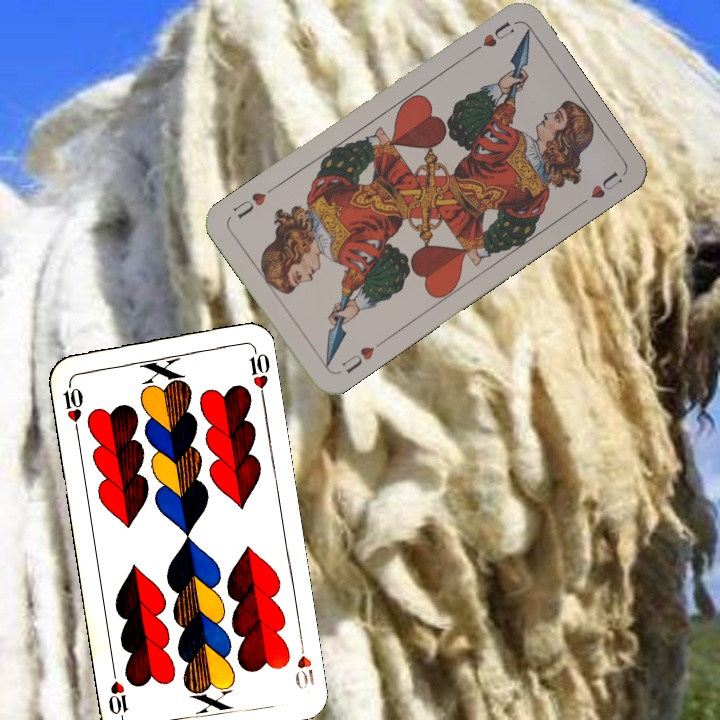H10: (59, 375, 86, 434), (291, 633, 317, 692)
HU: (465, 17, 517, 57), (337, 342, 377, 376)
